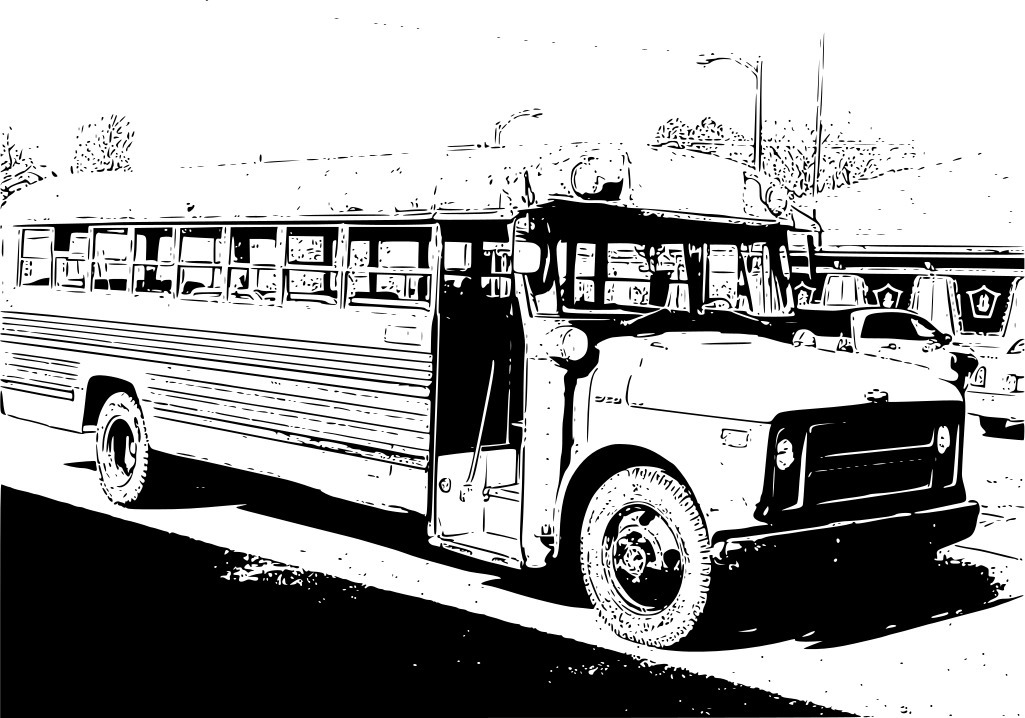bus: (1, 154, 984, 655)
